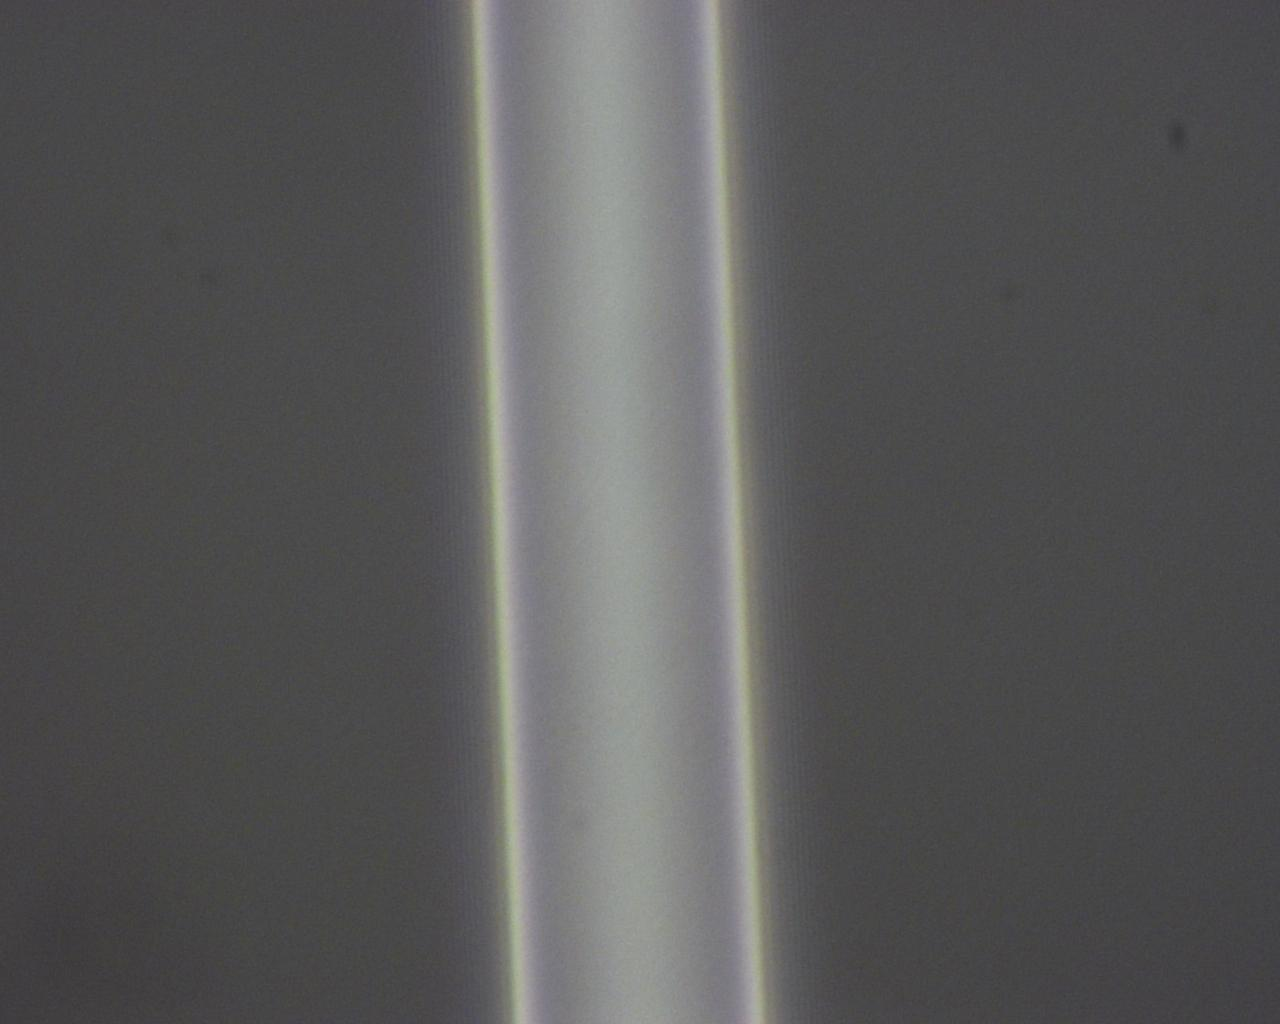fiber: (365, 490, 1280, 858)
